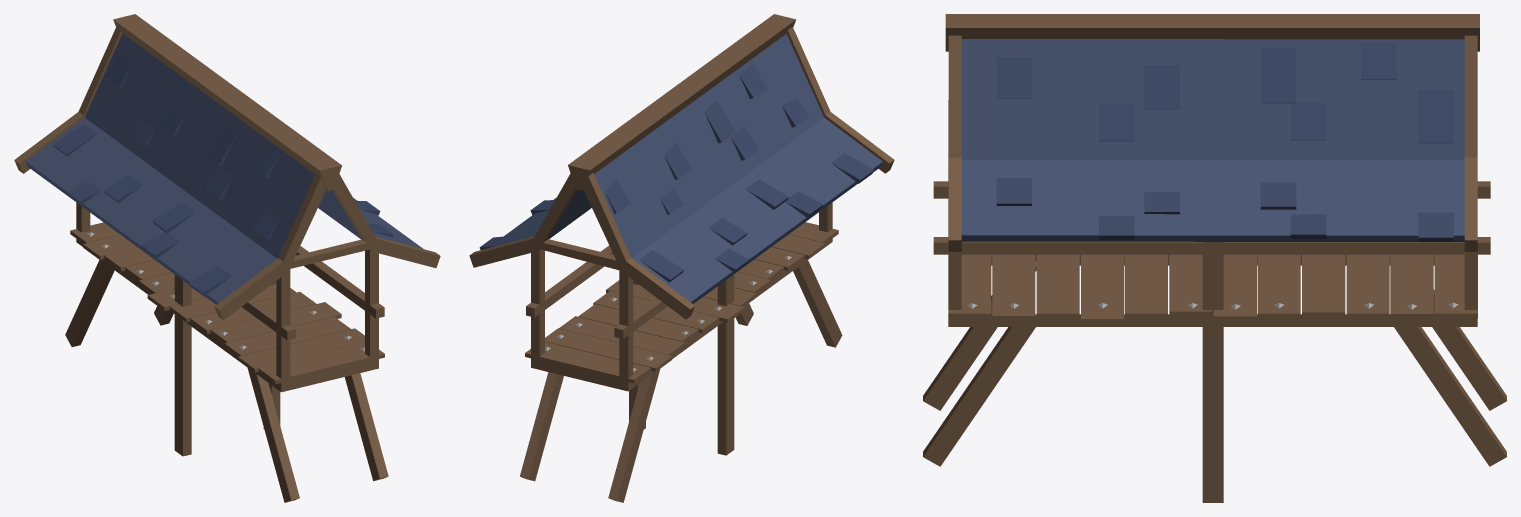
Rendered from pont_2.fbx.
3 views of the same model, side by side, from view 1: azimuth 30°, elevation 25°; view 2: azimuth 150°, elevation 25°; view 3: azimuth 270°, elevation 25° (orthographic). The views are drawn at different scales.
Parts seen in each view (by area): view 1: pCube80, pCube81, pCube78, pCube33, pCube43, pCube39, pCube42, pCube20, pCube21, pCube38, pCube13, pCube22 (+26 smaller); view 2: pCube80, pCube81, pCube48, pCube47, pCube33, pCube37, pCube46, pCube30, pCube36, pCube29, pCube43, pCube39 (+24 smaller); view 3: pCube79, pCube81, pCube18, pCube32, pCube13, pCube36, pCube38, pCube98 (×2), pCube25, pCube42, pCube46, pCube100 (×2) (+20 smaller).
Part boxes in pixels (bbox=[...]): pCube80: bbox=[26, 33, 315, 304]; pCube81: bbox=[113, 14, 341, 190]; pCube78: bbox=[276, 239, 378, 391]; pCube33: bbox=[174, 275, 191, 456]; pCube43: bbox=[214, 173, 326, 319]; pCube39: bbox=[247, 368, 299, 502]; pCube42: bbox=[332, 174, 440, 267]; pCube20: bbox=[258, 342, 384, 384]; pCube21: bbox=[238, 328, 364, 372]; pCube38: bbox=[344, 373, 388, 481]; pCube13: bbox=[76, 239, 378, 392]; pCube22: bbox=[224, 316, 350, 356]; pCube80: bbox=[594, 34, 882, 303]; pCube81: bbox=[568, 14, 796, 190]; pCube48: bbox=[531, 239, 633, 391]; pCube47: bbox=[583, 173, 694, 319]; pCube33: bbox=[717, 274, 734, 455]; pCube37: bbox=[608, 369, 660, 502]; pCube46: bbox=[469, 173, 577, 267]; pCube30: bbox=[525, 342, 650, 383]; pCube36: bbox=[520, 372, 563, 481]; pCube29: bbox=[545, 328, 672, 371]; pCube43: bbox=[786, 27, 894, 173]; pCube39: bbox=[793, 258, 842, 347]; pCube79: bbox=[961, 39, 1464, 241]; pCube81: bbox=[945, 14, 1479, 51]; pCube18: bbox=[933, 237, 1490, 254]; pCube32: bbox=[1202, 242, 1223, 502]; pCube13: bbox=[948, 254, 1477, 326]; pCube36: bbox=[1392, 319, 1506, 466]; pCube38: bbox=[923, 321, 1035, 466]; pCube98 (×2): bbox=[1260, 48, 1296, 209]; pCube25: bbox=[1081, 254, 1124, 323]; pCube42: bbox=[948, 35, 961, 251]; pCube46: bbox=[1464, 35, 1477, 251]; pCube100 (×2): bbox=[1418, 90, 1453, 241].
Bounding box in the file's own units: 4.02 × 6.06 × 7.1.
